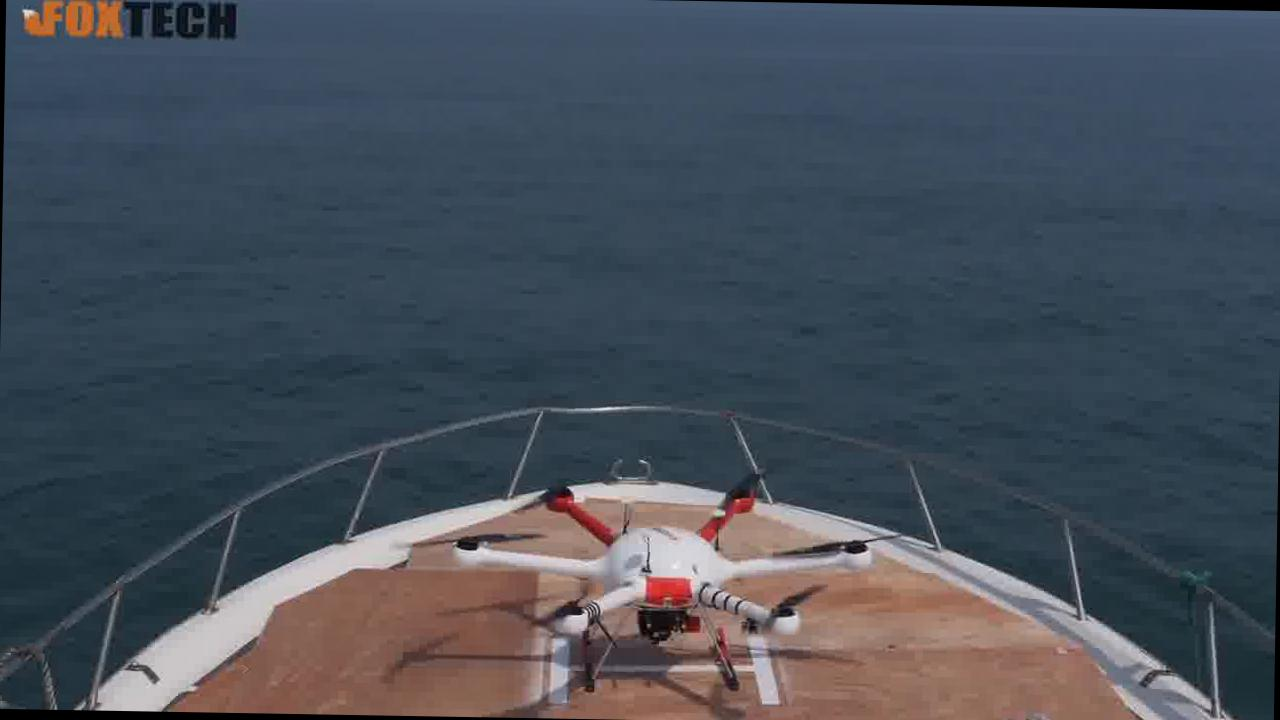drone: (411, 455, 924, 717)
